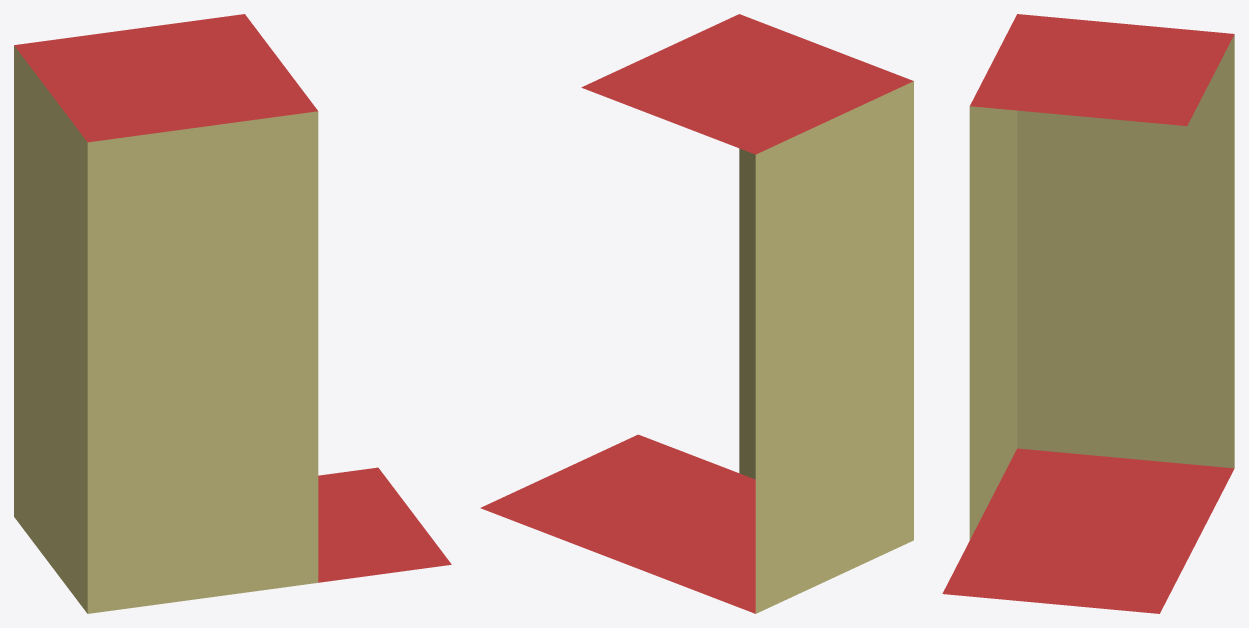
The picture shows the model from 3 angles, left to right: view 1: azimuth 30°, elevation 25°; view 2: azimuth 150°, elevation 25°; view 3: azimuth 270°, elevation 25°; orthographic projection. The views are drawn at different scales.
Size of the model in its own units: 6.33 by 4.72 by 7.74.
